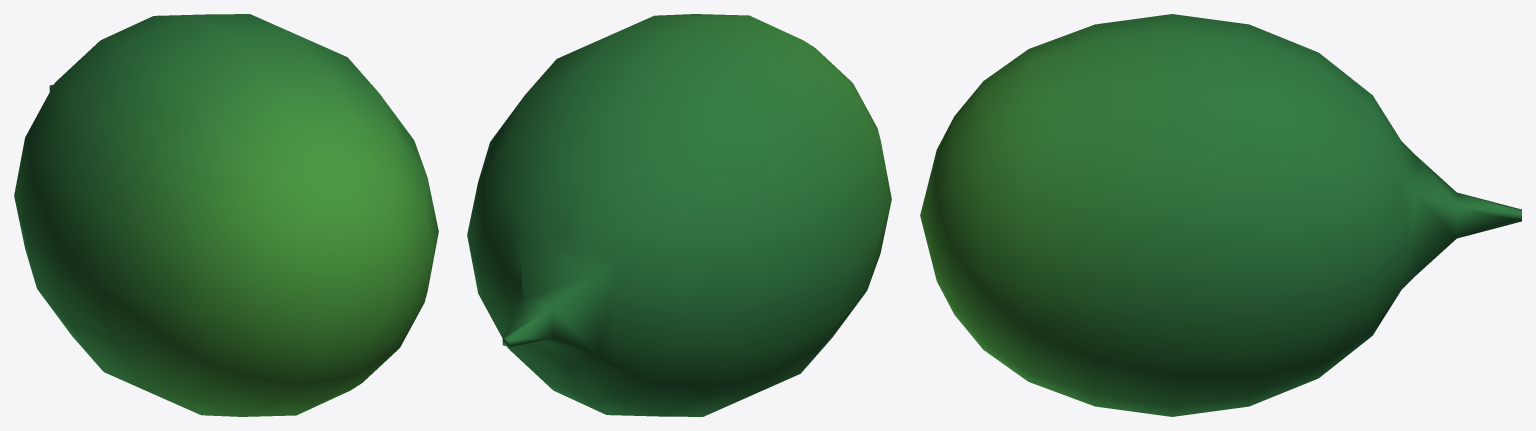
Rendered from microscopic-protists-green-alga_v2.glb.
3 views of the same model, side by side, from view 1: azimuth 30°, elevation 25°; view 2: azimuth 150°, elevation 25°; view 3: azimuth 270°, elevation 25° (orthographic).
Parts seen in each view (by area): view 1: Green Alga_v2; view 2: Green Alga_v2; view 3: Green Alga_v2.
Boxes of the visible parts, x1,y1,x2,y2 form: Green Alga_v2: [14, 14, 438, 416]; Green Alga_v2: [467, 14, 891, 416]; Green Alga_v2: [920, 14, 1521, 416].
Bounding box in the file's own units: 0.0672 × 0.0672 × 0.1.
